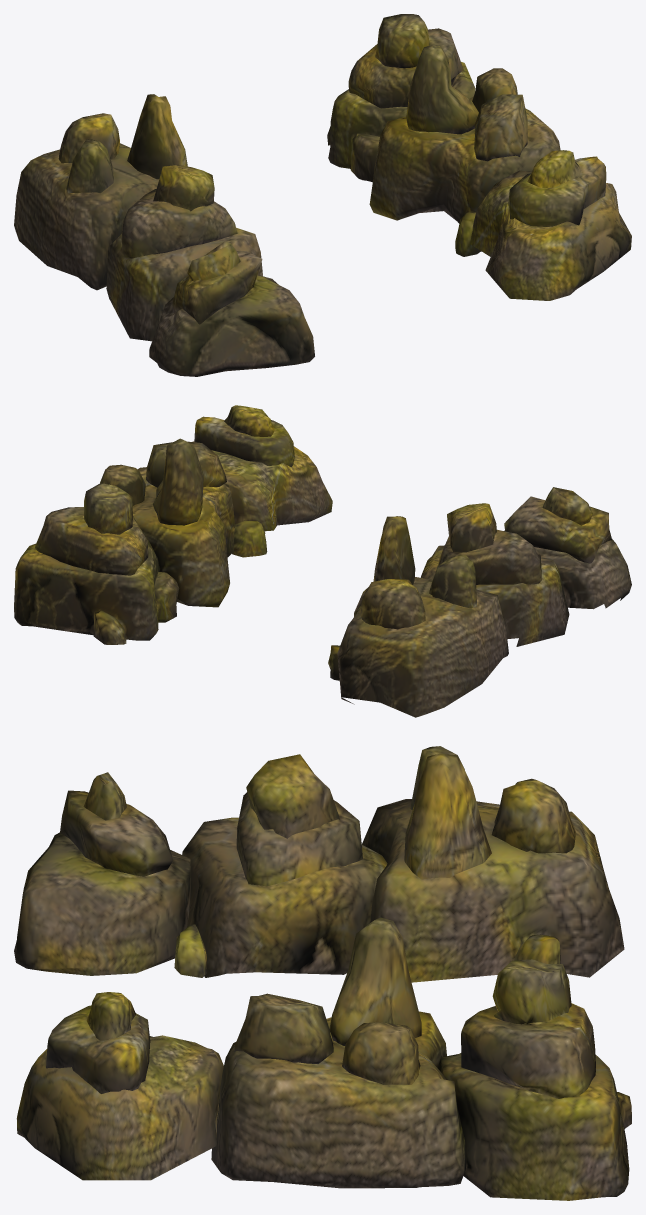
The model's file is Lava_Rock_1.fbx.
The picture shows the model from 3 angles, top to bottom: view 1: azimuth 30°, elevation 25°; view 2: azimuth 150°, elevation 25°; view 3: azimuth 270°, elevation 25°; orthographic projection. The views are drawn at different scales.
Visible parts, largest first — view 1: Lava_Rock_1; view 2: Lava_Rock_1; view 3: Lava_Rock_1.
Boxes of the visible parts, x1,y1,x2,y2 form: Lava_Rock_1: (14, 14, 631, 376); Lava_Rock_1: (14, 405, 631, 717); Lava_Rock_1: (14, 746, 631, 1200).
Size of the model in its own units: 15.23 by 4.94 by 12.39.
